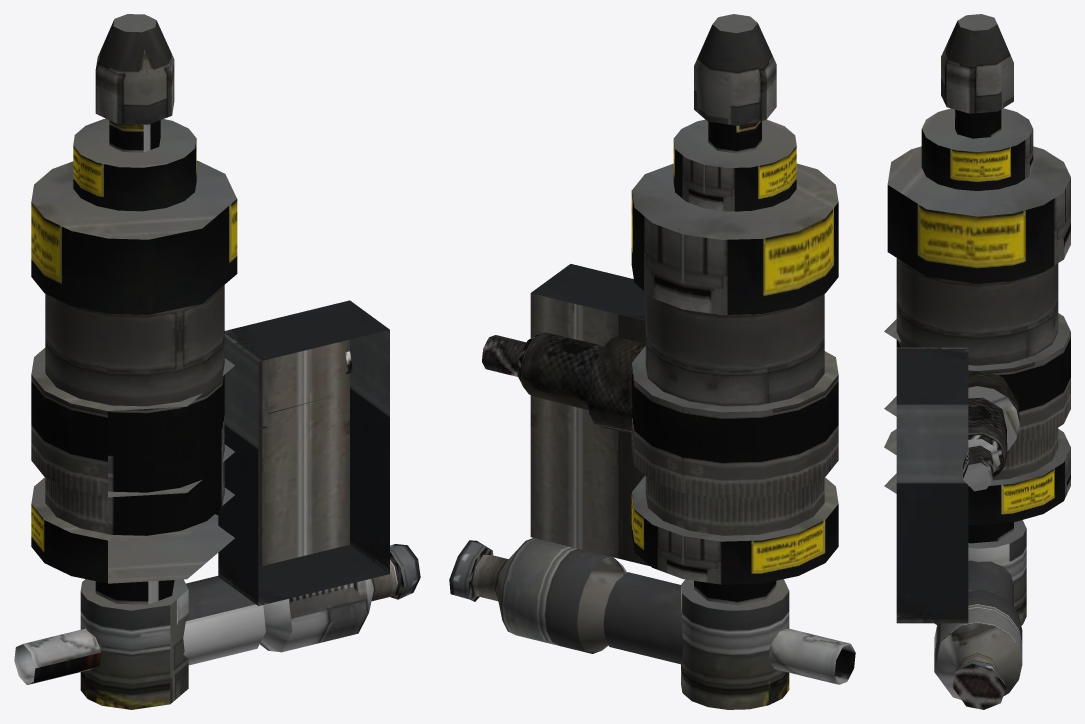
The model's file is p_glo_briefcase_bomb_valve.glb.
3 views of the same model, side by side, from view 1: azimuth 30°, elevation 25°; view 2: azimuth 150°, elevation 25°; view 3: azimuth 270°, elevation 25° (orthographic). The views are drawn at different scales.
Parts seen in each view (by area): view 1: p_glo_briefcase_bomb_valve; view 2: p_glo_briefcase_bomb_valve; view 3: p_glo_briefcase_bomb_valve.
Part boxes in pixels (left/top/right/bottom): p_glo_briefcase_bomb_valve: left=14, top=14, right=420, bottom=709; p_glo_briefcase_bomb_valve: left=449, top=14, right=855, bottom=709; p_glo_briefcase_bomb_valve: left=884, top=14, right=1070, bottom=709.
Size of the model in its own units: 0.2246 by 0.3721 by 0.1061.
1 material, 1 textured.
